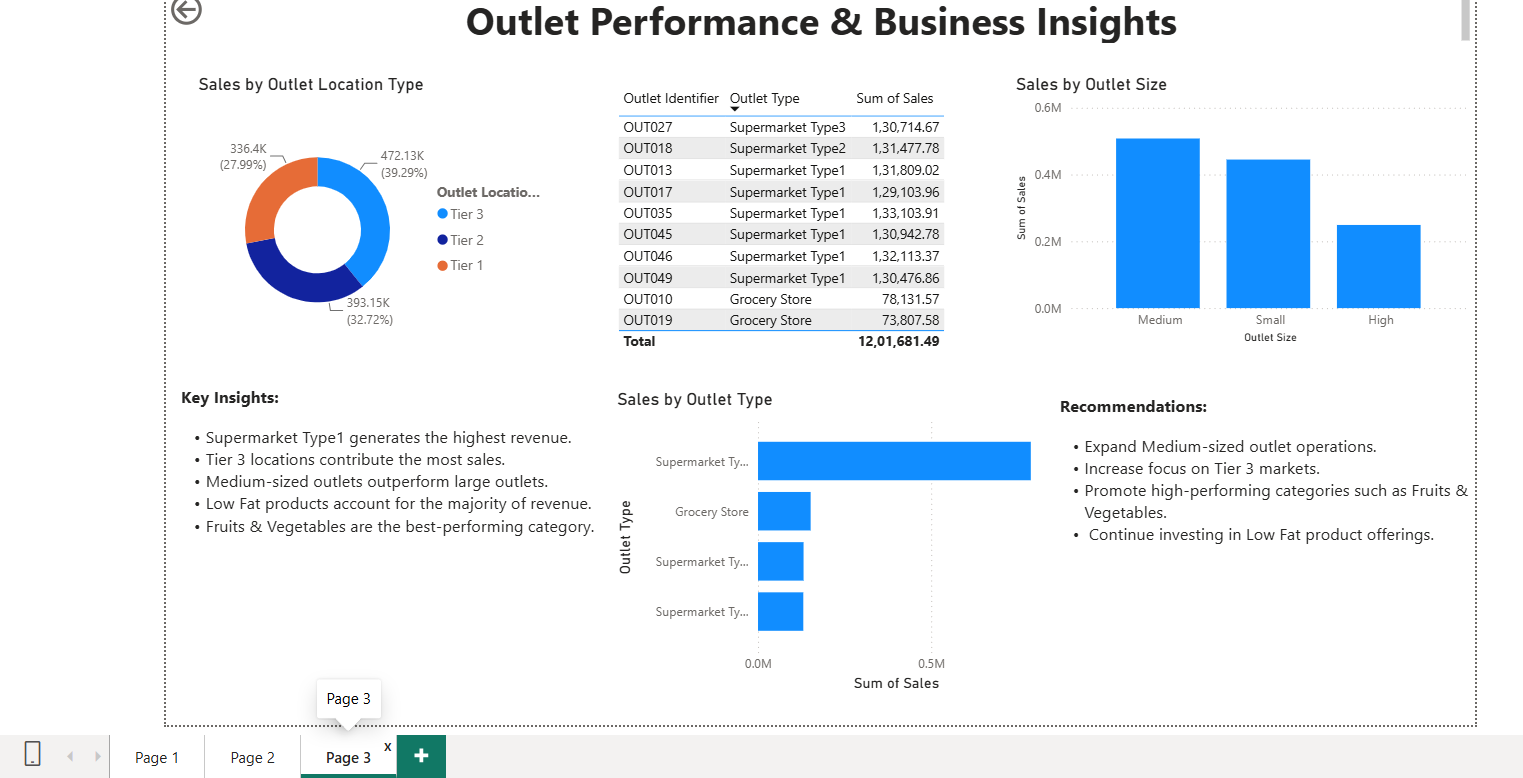

The dashboard page shown, as its layout file describes it:
{"tool":"powerbi","page":{"name":"Page 3","canvas":[1280,720],"ordinal":2},"visuals":[{"type":"textbox","box":[9.8,0,1270.5,57.5],"z":0},{"type":"clusteredBarChart","title":"Sales by Outlet Type","fields":{"Category":["Sheet1.Outlet Type"],"Y":["Sum(Sheet1.Sales)"]},"box":[436.6,391.3,432.9,300.8],"z":1000},{"type":"clusteredColumnChart","title":"Sales by Outlet Size","fields":{"Category":["Sheet1.Outlet Size"],"Y":["Sum(Sheet1.Sales)"]},"box":[826.6,83.2,453.7,269],"z":2000},{"type":"donutChart","title":" Sales by Outlet Location Type","fields":{"Category":["Sheet1.Outlet Location Type"],"Y":["Sum(Sheet1.Sales)"]},"box":[26.9,83.2,351,286.1],"z":3000},{"type":"tableEx","fields":{"Values":["Sheet1.Outlet Identifier","Sheet1.Outlet Type","Sum(Sheet1.Sales)"]},"box":[436.6,90.5,352.2,278.8],"z":5000},{"type":"actionButton","box":[0,0,100,40],"z":6000},{"type":"textbox","box":[9.8,382.7,426.8,260.5],"z":7000},{"type":"textbox","box":[869.4,391.3,410.9,269],"z":7001}]}

Visuals, with their boxes on the page's 1280x720 design canvas (x1, y1, x2, y2). These are canvas units, not pixel positions in the 1523x778 screenshot, which may show the page scaled, cropped or inside an application window:
textbox: left=10, top=0, right=1280, bottom=58
"Sales by Outlet Type" clusteredBarChart: left=437, top=391, right=870, bottom=692
"Sales by Outlet Size" clusteredColumnChart: left=827, top=83, right=1280, bottom=352
" Sales by Outlet Location Type" donutChart: left=27, top=83, right=378, bottom=369
tableEx - Sheet1.Outlet Identifier x Sheet1.Outlet Type: left=437, top=90, right=789, bottom=369
actionButton: left=0, top=0, right=100, bottom=40
textbox: left=10, top=383, right=437, bottom=643
textbox: left=869, top=391, right=1280, bottom=660
